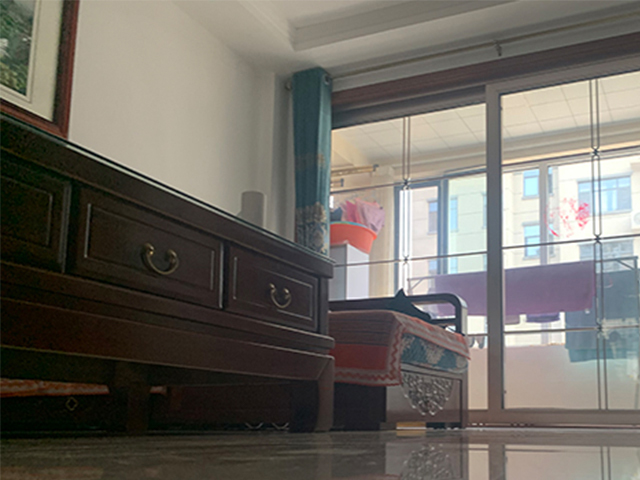book: (379, 419, 427, 431)
sofa: (327, 289, 470, 429)
table: (1, 111, 336, 434)
